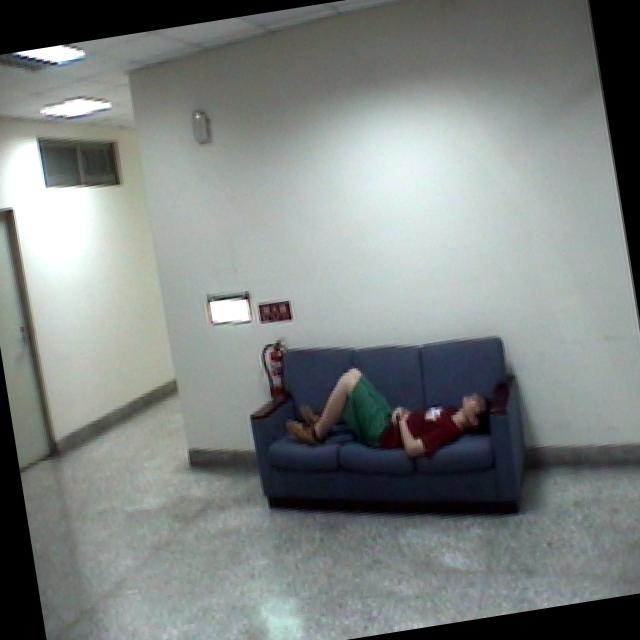lie: (272, 340, 502, 479)
